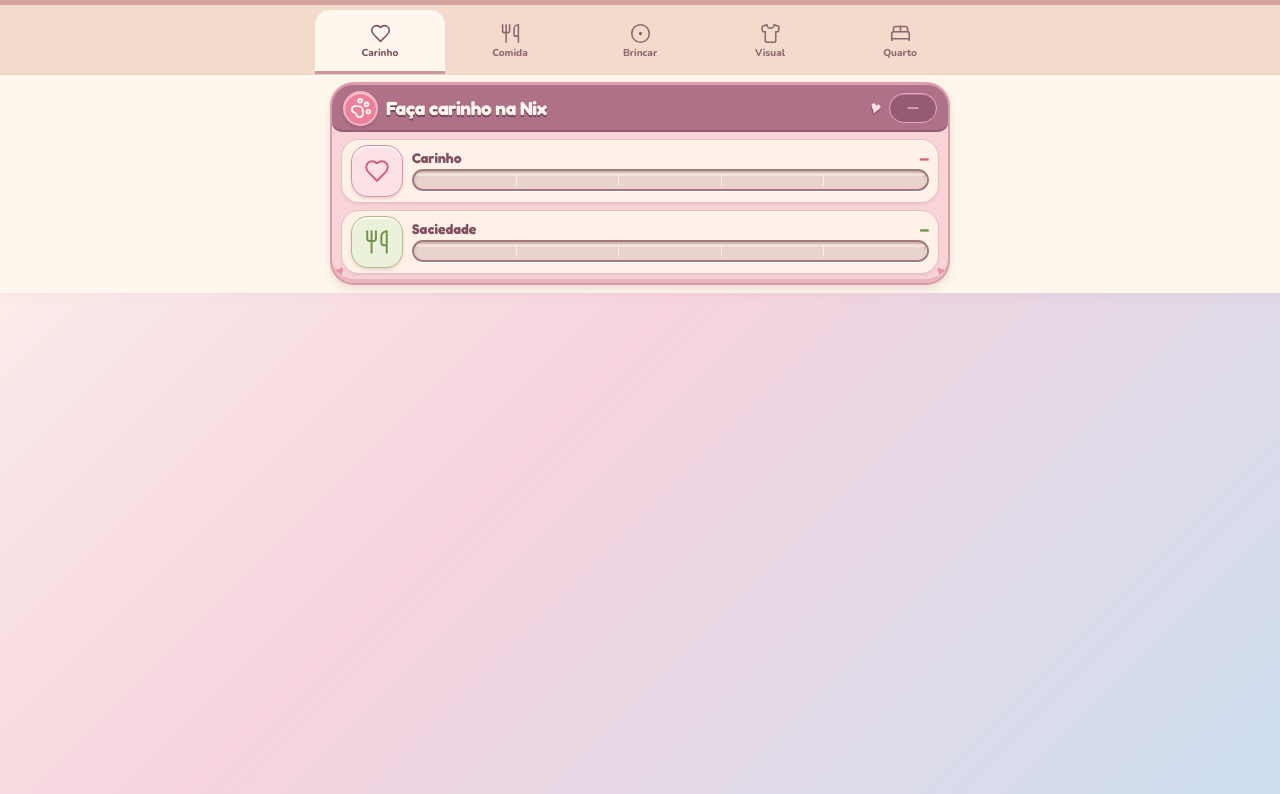
Test: drawer filtra brinquedos e estrutura por preço crescente sem trocar de aba ao comprar
Click the tab "Quarto" at (900,42), box [835,10,965,74]
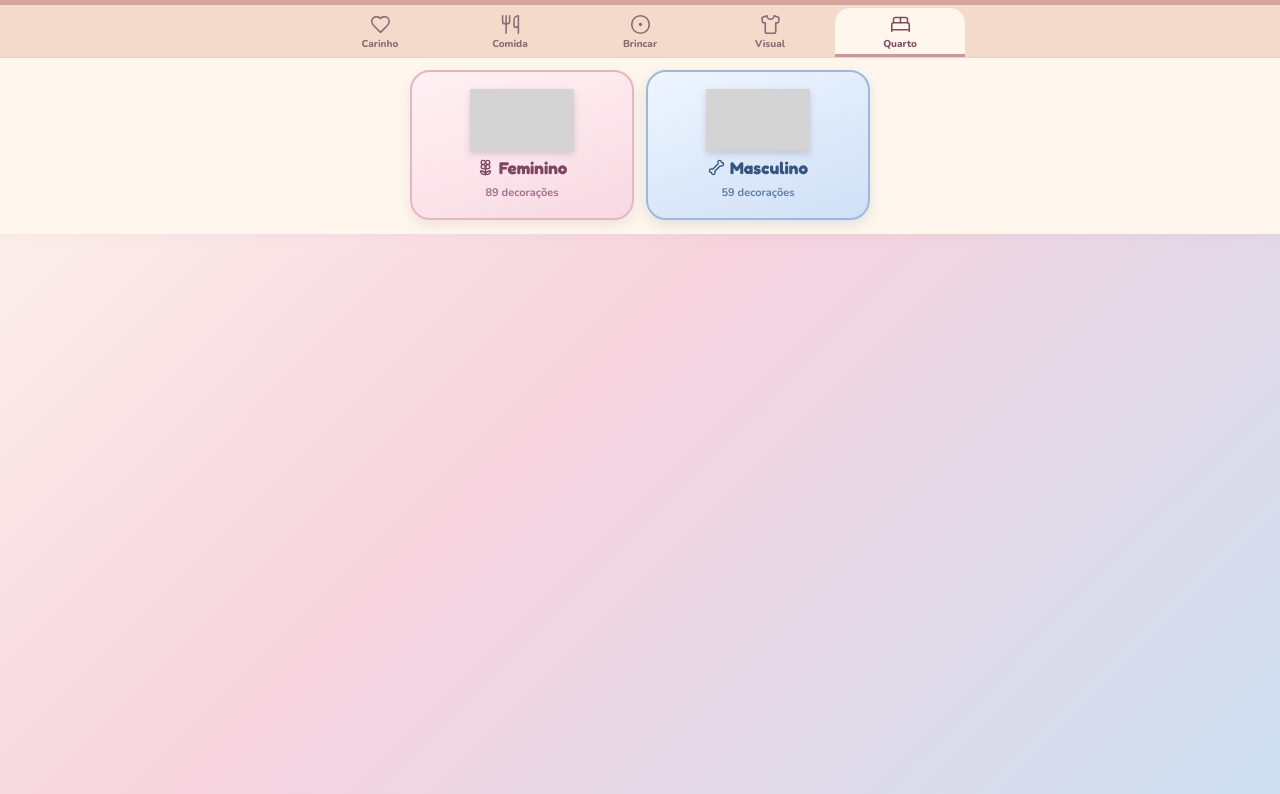
Click the button "Feminino 89 decorações" at (522,145), box [410,70,634,220]
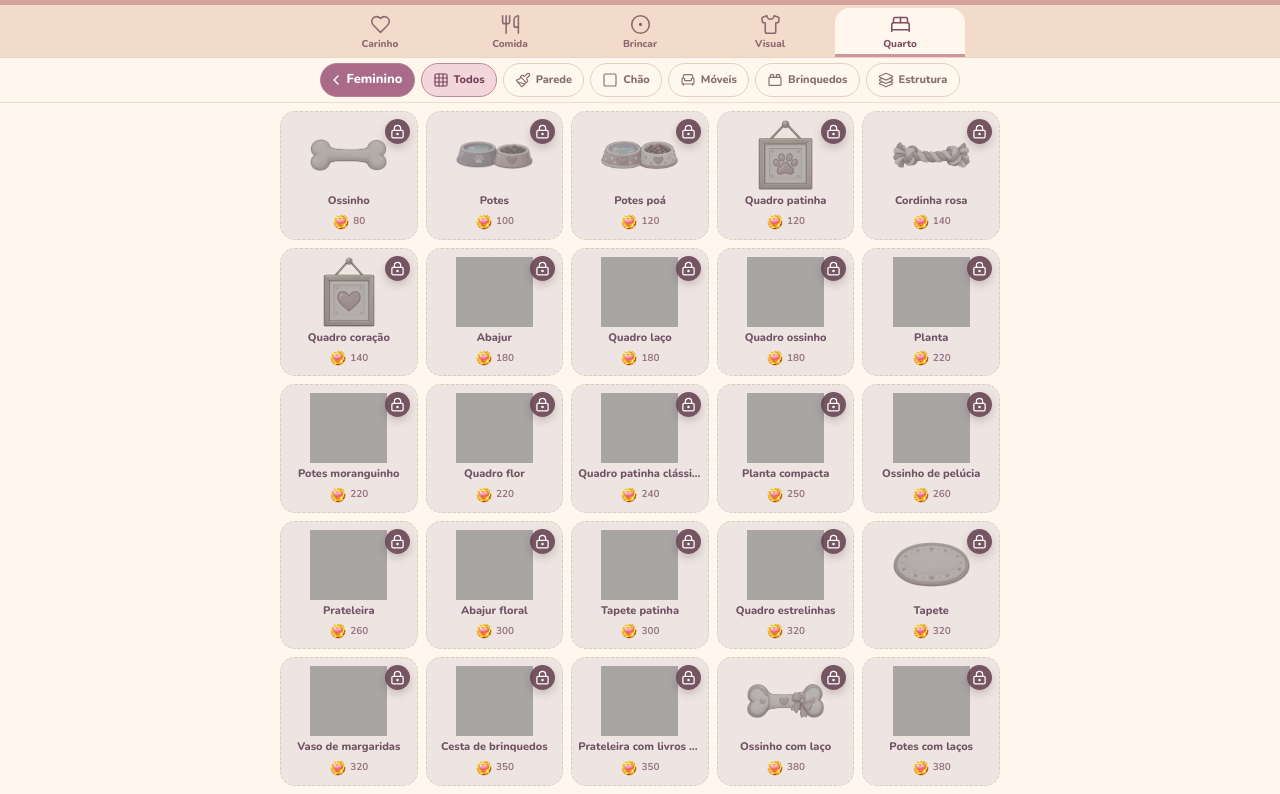
Click the button "Brinquedos" at (807,80), box [755,63,860,97]
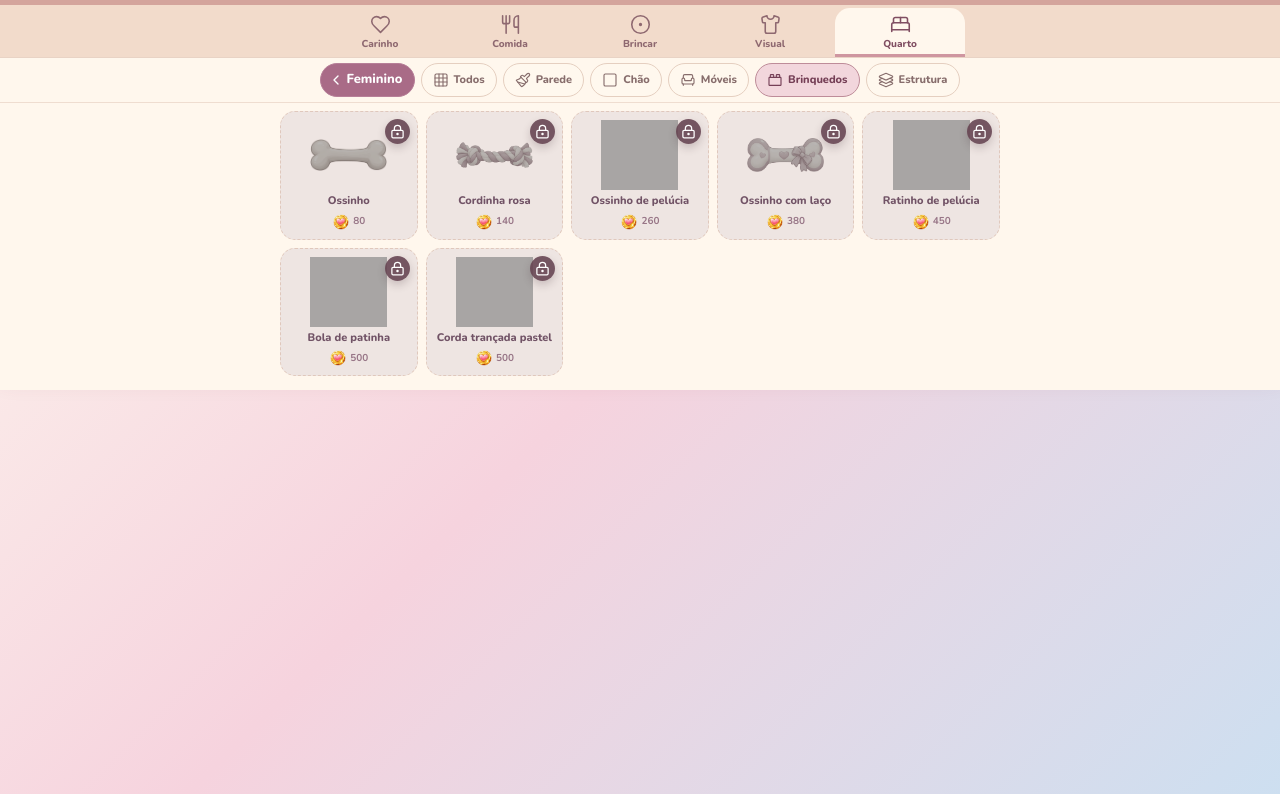
Expected: the number of buttons named "Comprar " is 7
Click the button with aria-label "Comprar " at (349,175), box [280,111,418,240]
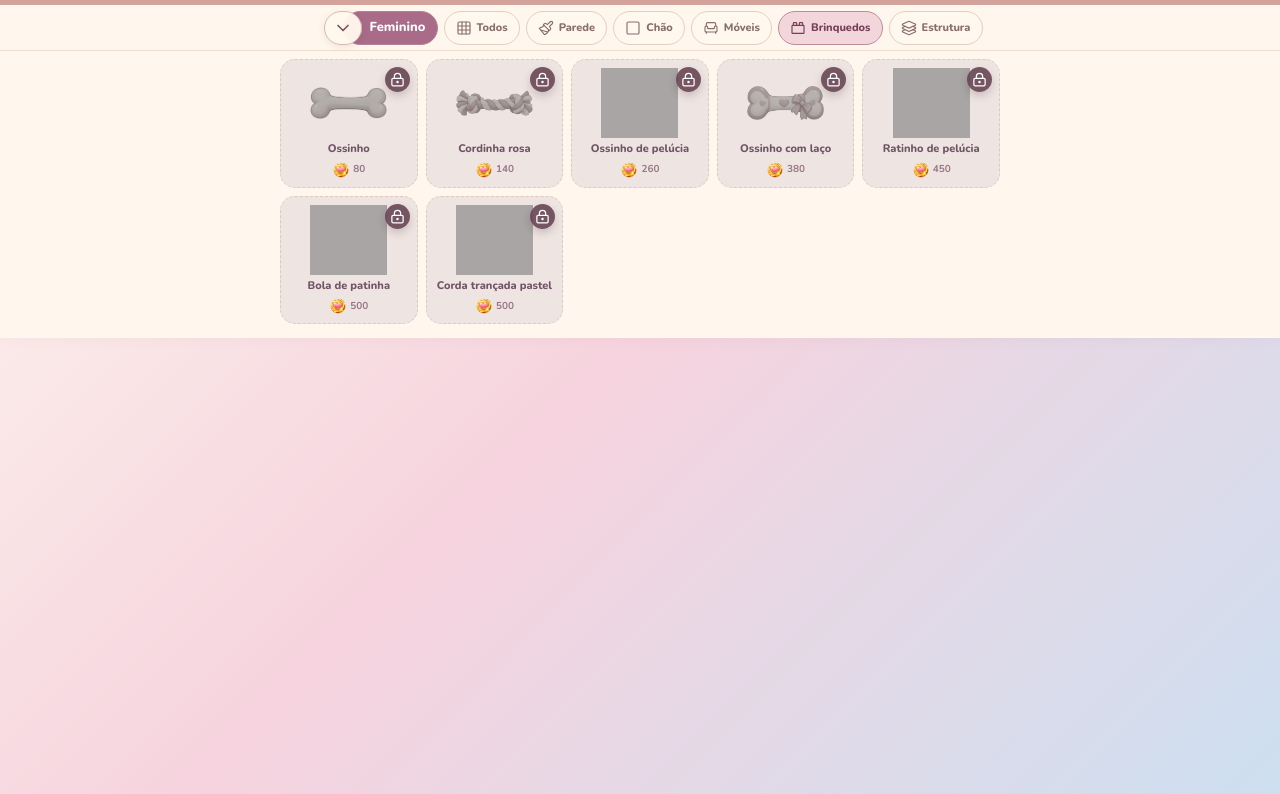
Expected: the button "Brinquedos" is pressed, [778,11,882,45]
Click the button "Estrutura" at (936,28), box [888,11,982,45]
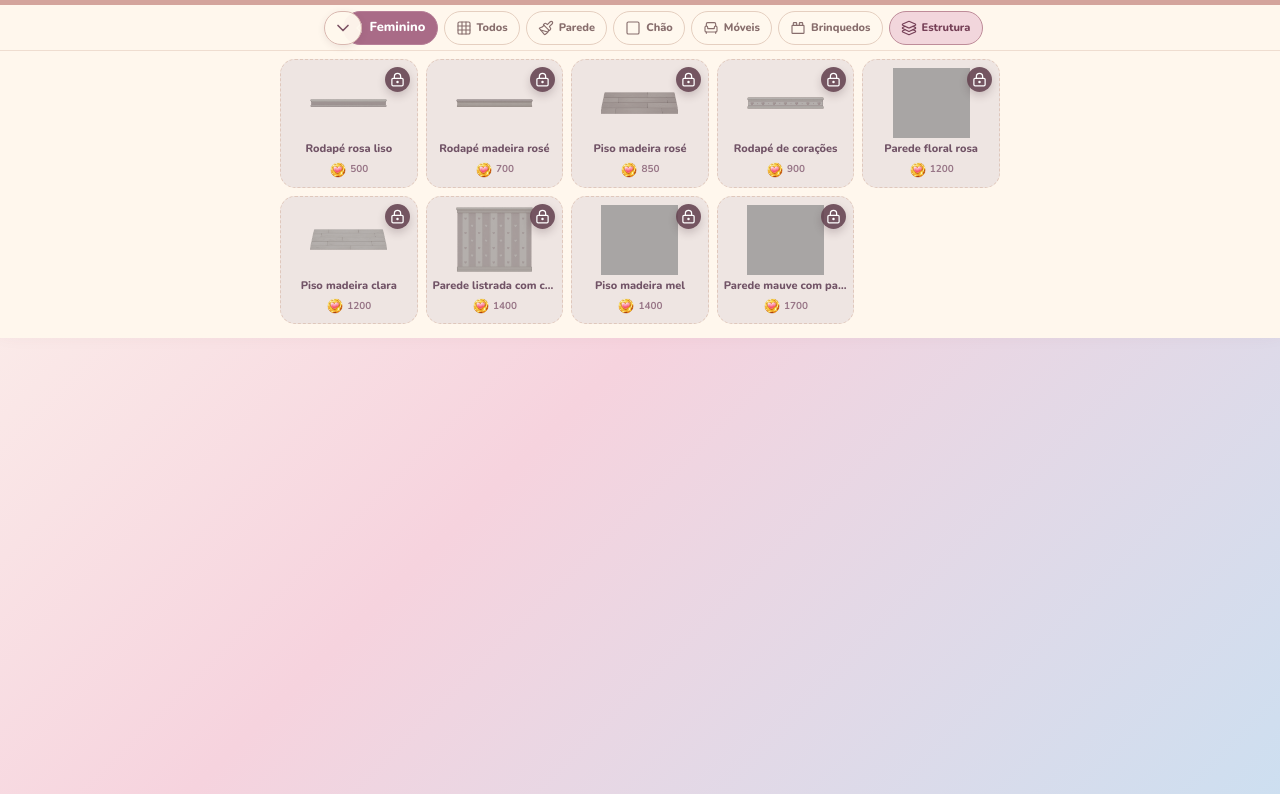
Expected: the number of buttons named "Comprar " is 9
